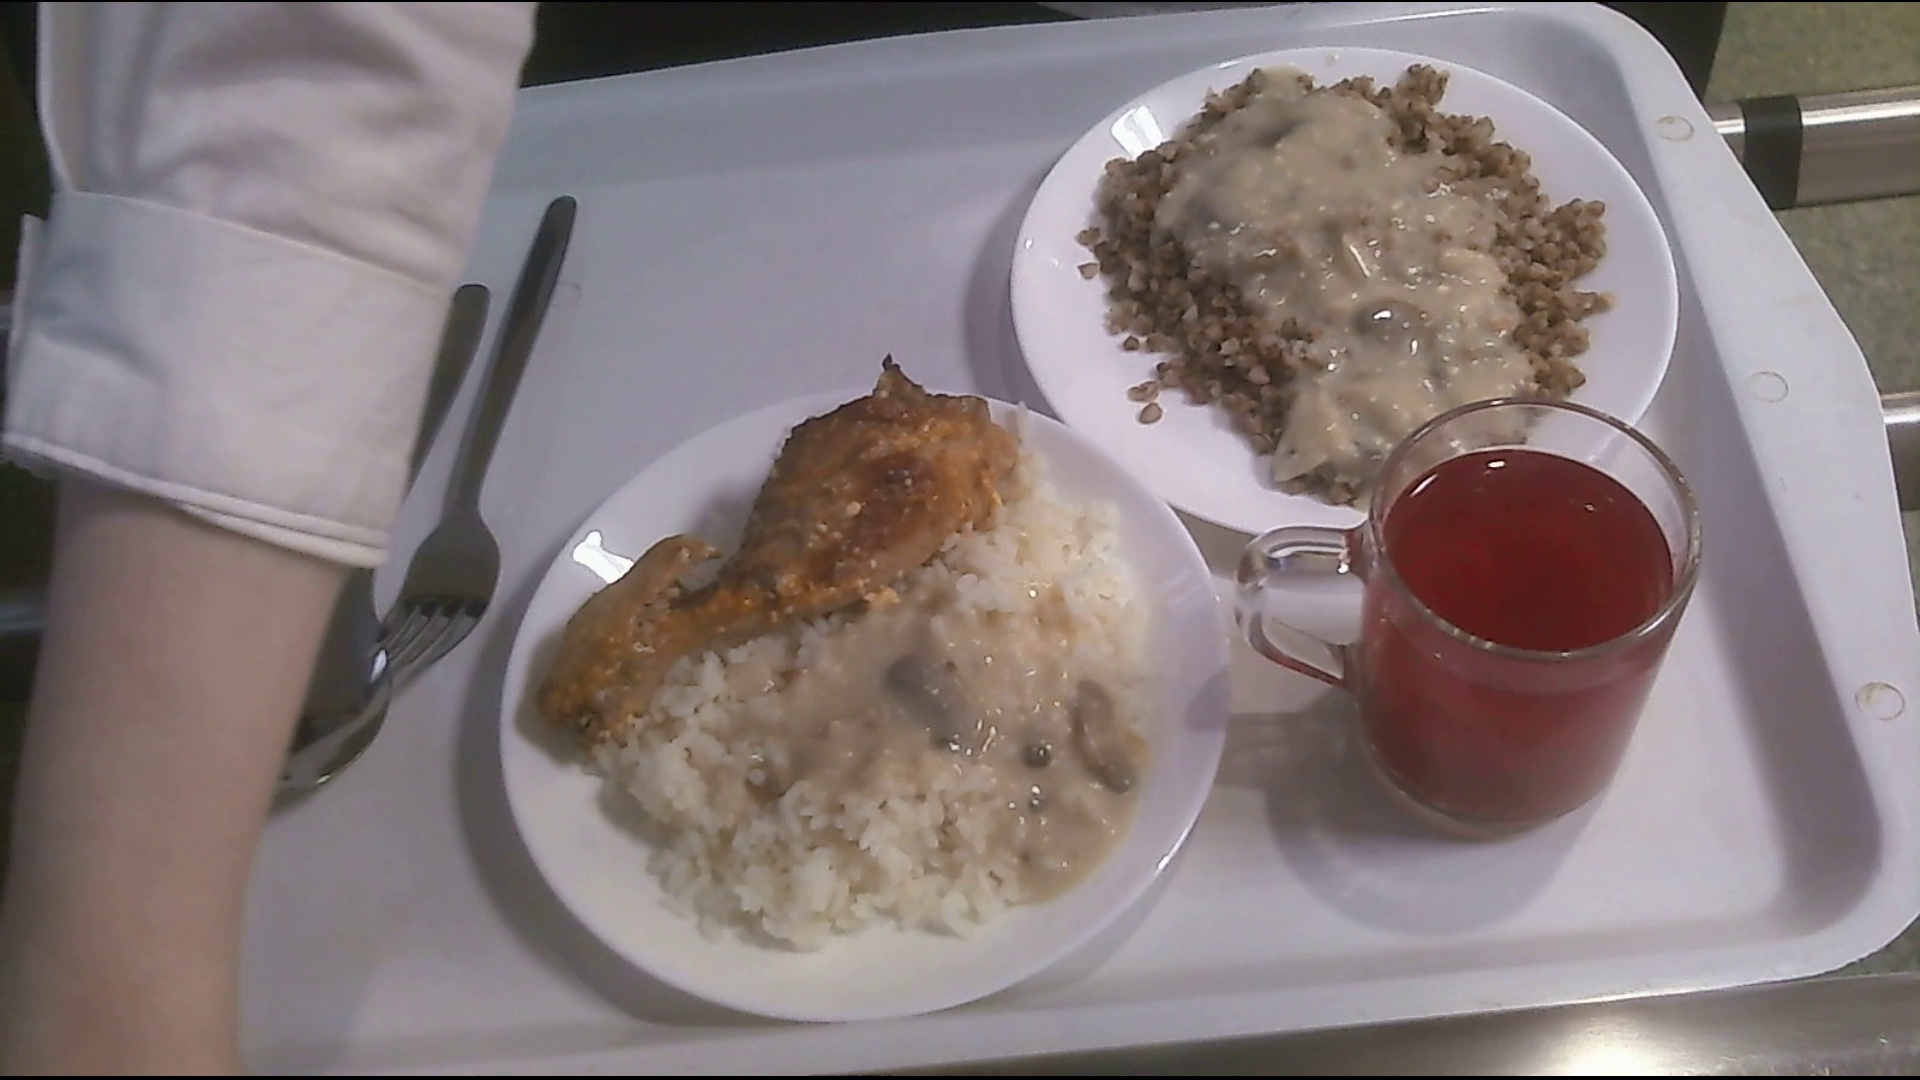cutlery: (382, 190, 578, 682)
drink: (1242, 406, 1712, 844)
plate: (509, 381, 1218, 1019), (997, 36, 1677, 524)
